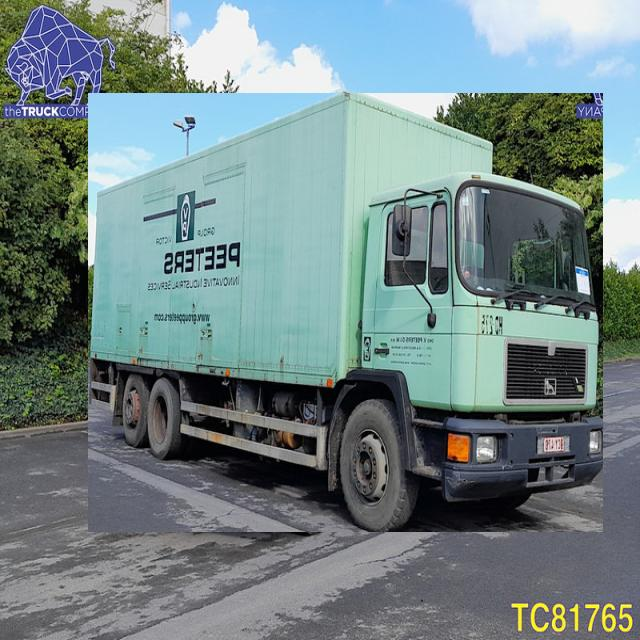truck: (89, 94, 603, 532)
